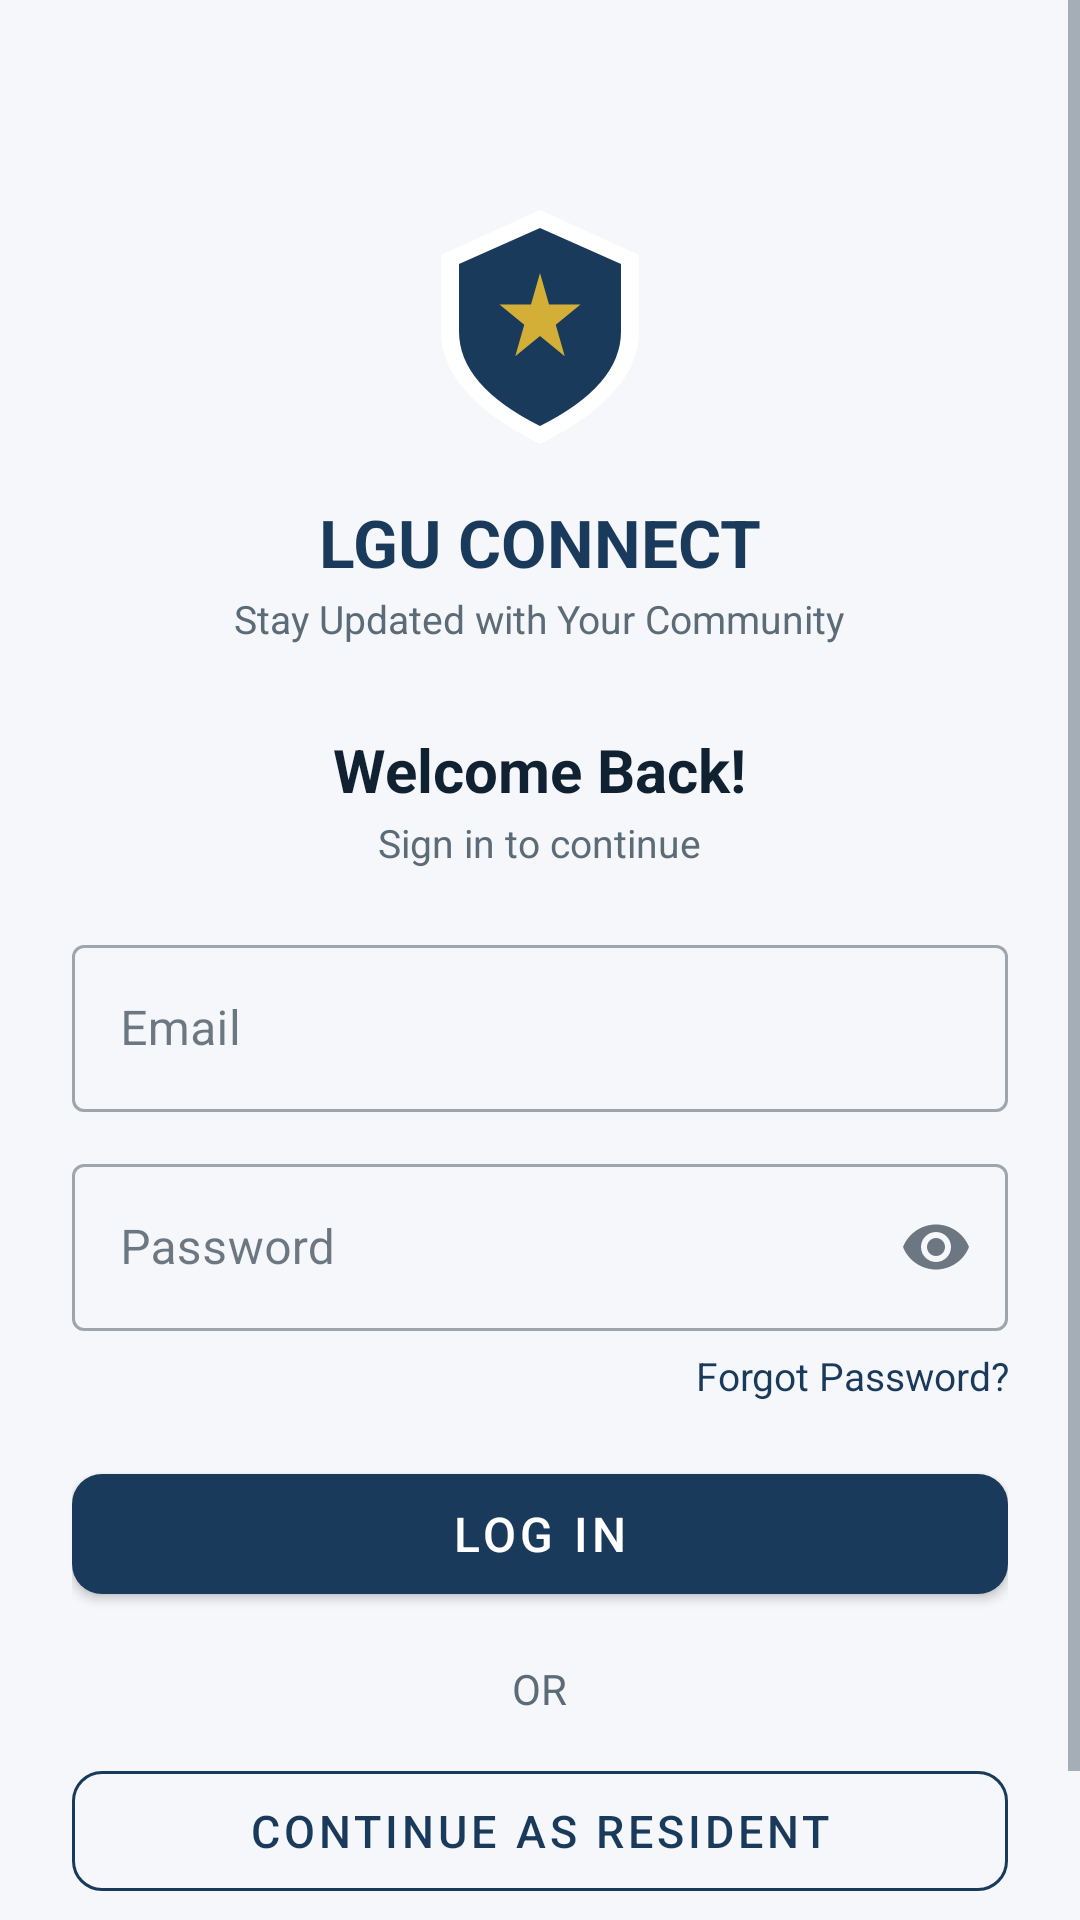

Where icons sit on this 1080px x 1920px app screen, as (x1, y1, x2, y2):
lgu shield: (459, 228, 621, 426)
